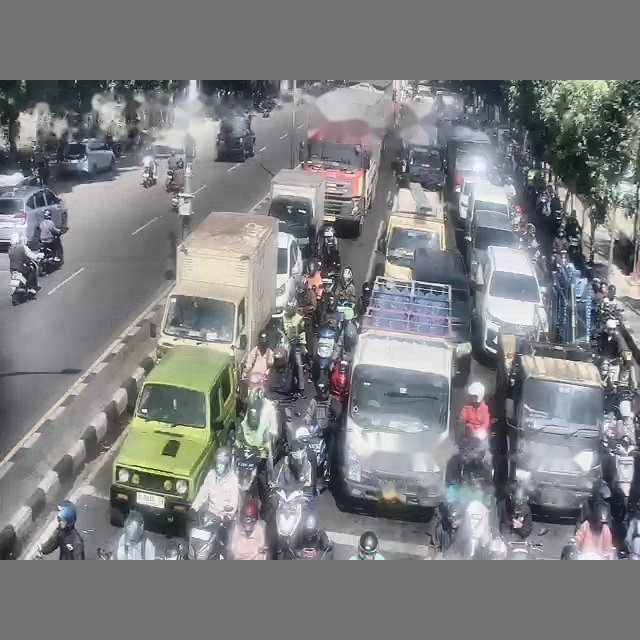Mobil: (110, 346, 235, 525), (411, 248, 471, 385), (472, 246, 547, 355), (0, 186, 68, 247), (276, 232, 302, 312), (61, 140, 115, 177), (216, 116, 255, 161)
Motor: (187, 511, 230, 559), (312, 325, 338, 384), (9, 270, 34, 305), (142, 169, 156, 188)
Truk: (336, 277, 456, 506), (151, 212, 277, 373), (268, 169, 325, 257)
